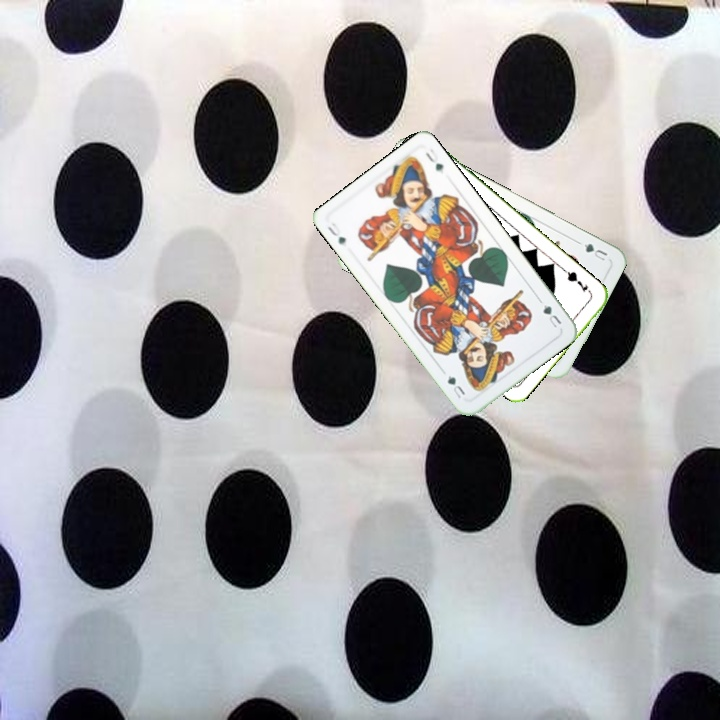G7: (560, 266, 590, 295)
GU: (535, 295, 564, 332), (579, 239, 610, 264), (323, 218, 349, 247)
